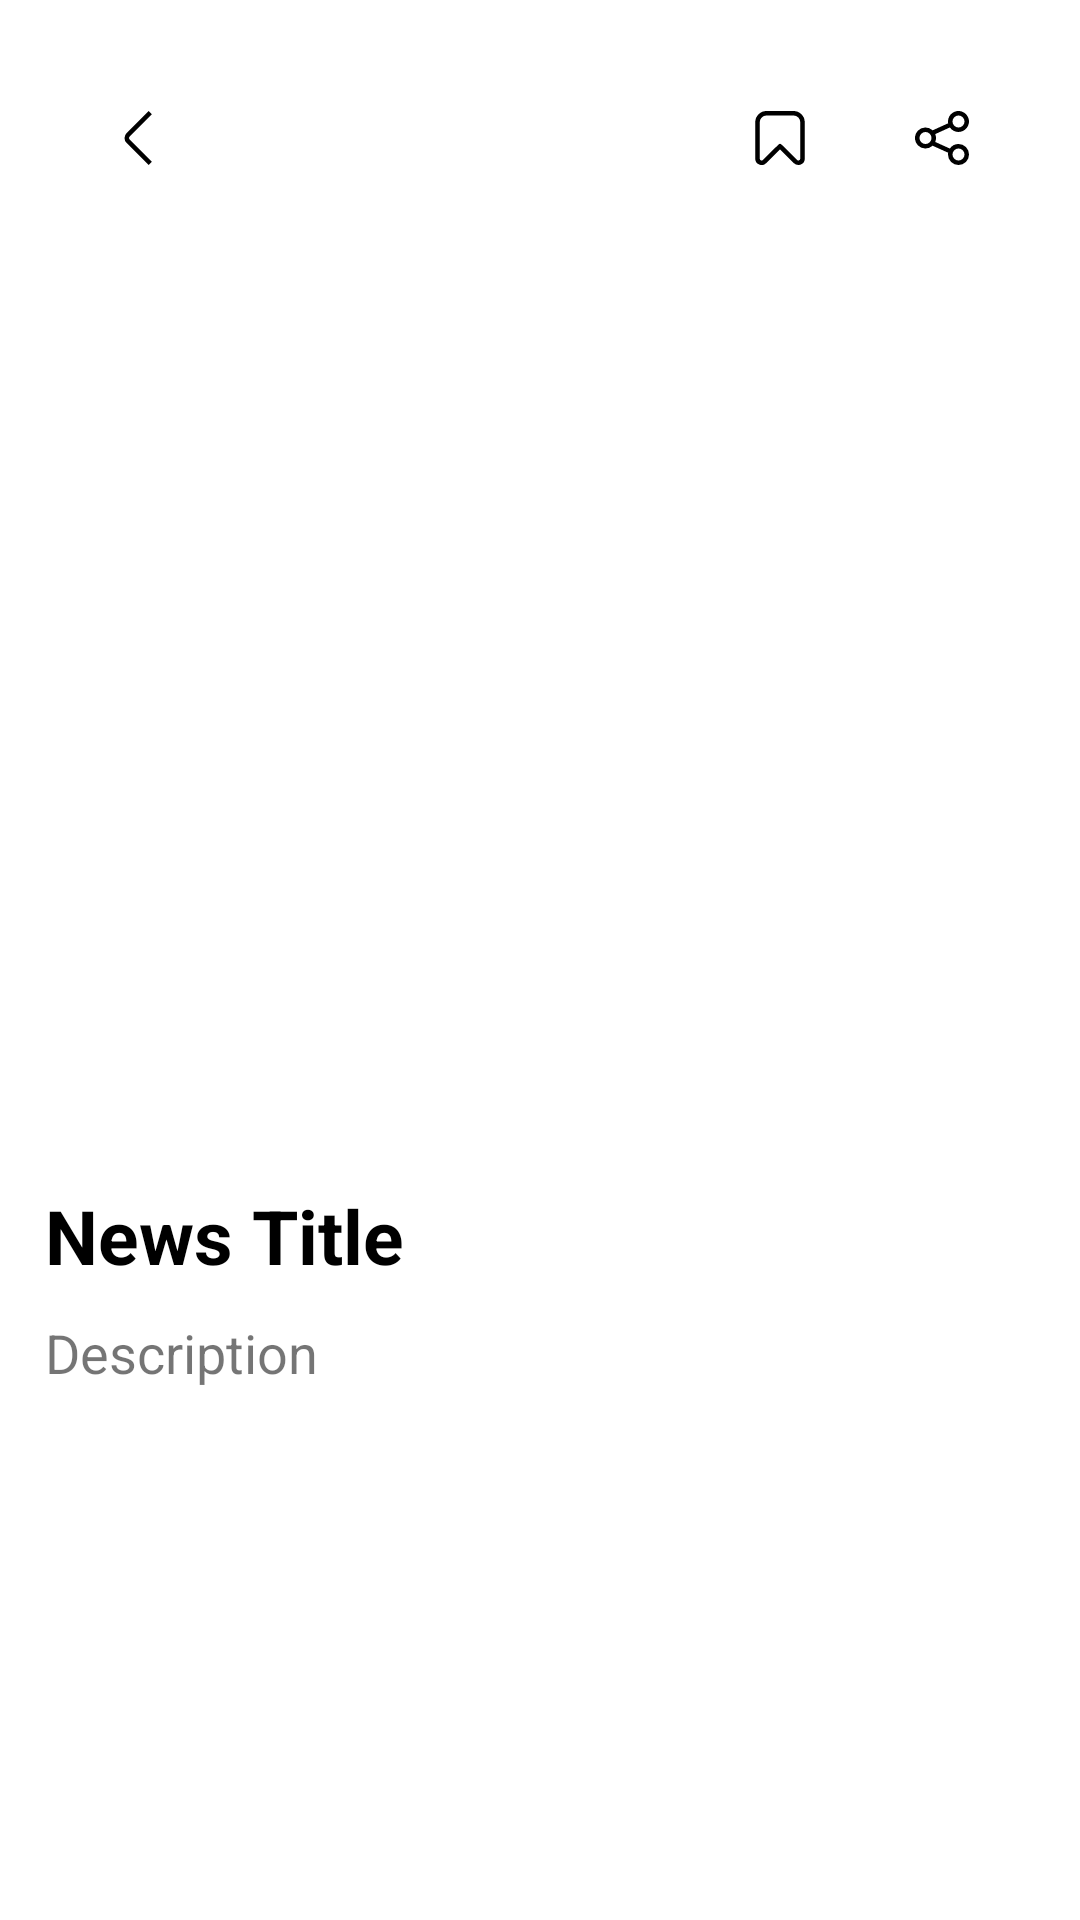

Named icons in this screenshot (1080×1920) and their bounding boxes, (x1, y1, x2, y2):
back: (124, 111, 152, 165)
bookmark: (755, 111, 805, 165)
share: (915, 111, 969, 165)
